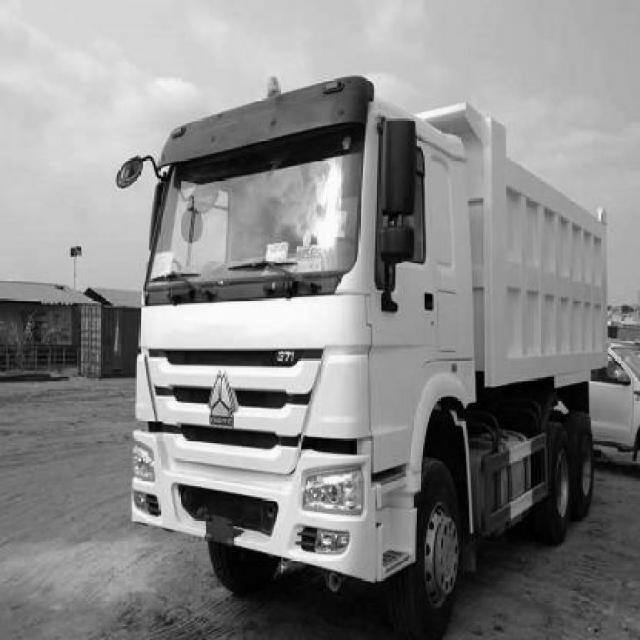Box Truck: (116, 77, 620, 640)
